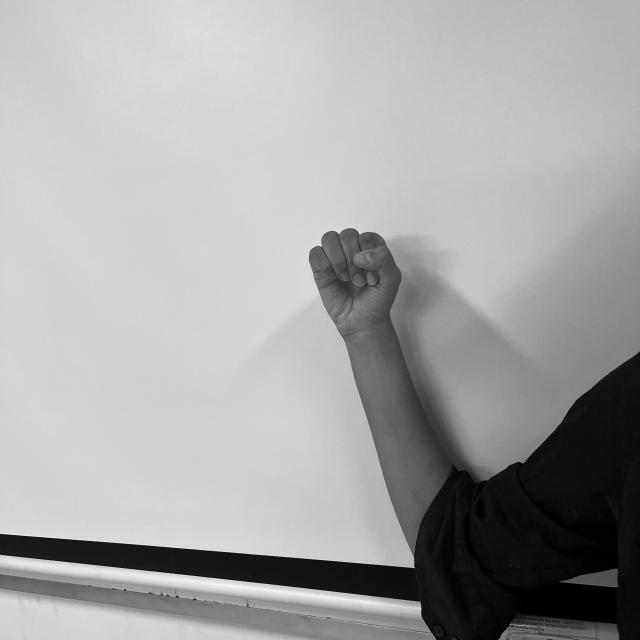Letra S: (305, 223, 408, 338)
